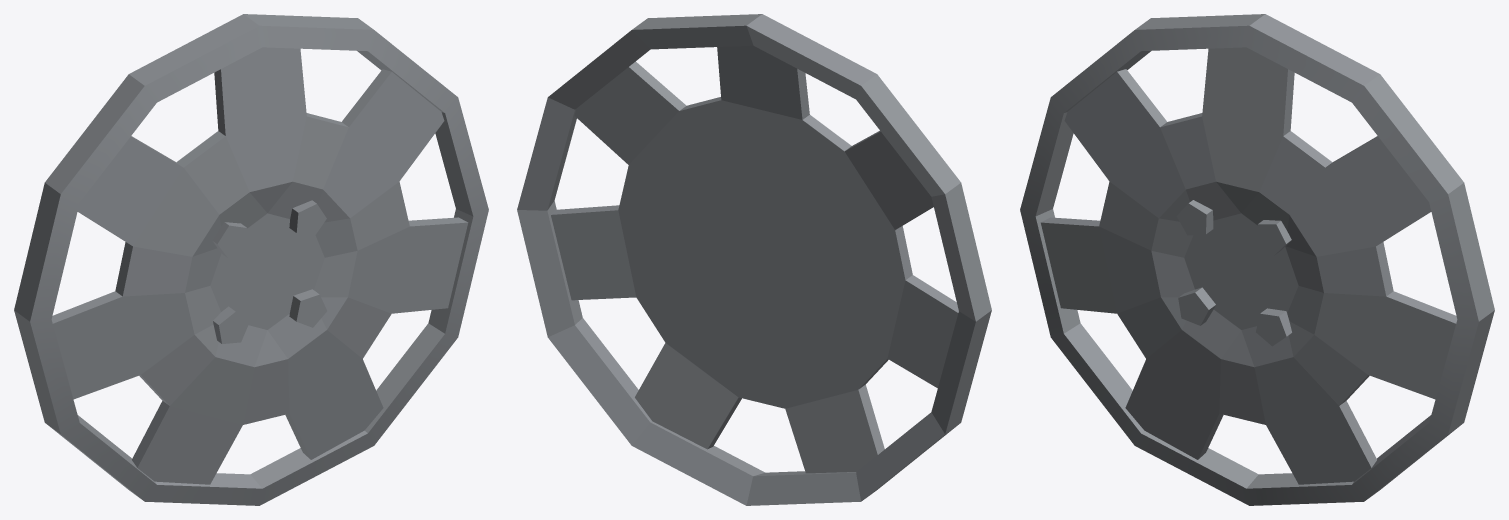
The model's file is SM_Prop_HubCap_03.fbx.
The picture shows the model from 3 angles, left to right: view 1: azimuth 30°, elevation 25°; view 2: azimuth 150°, elevation 25°; view 3: azimuth 330°, elevation 25°; orthographic projection.
Visible parts, largest first — view 1: SM_Prop_HubCap_03; view 2: SM_Prop_HubCap_03; view 3: SM_Prop_HubCap_03.
Boxes of the visible parts, x1,y1,x2,y2 form: SM_Prop_HubCap_03: (14, 14, 488, 505); SM_Prop_HubCap_03: (517, 14, 991, 505); SM_Prop_HubCap_03: (1020, 14, 1494, 505).
Size of the model in its own units: 48.96 by 48.96 by 5.8.
